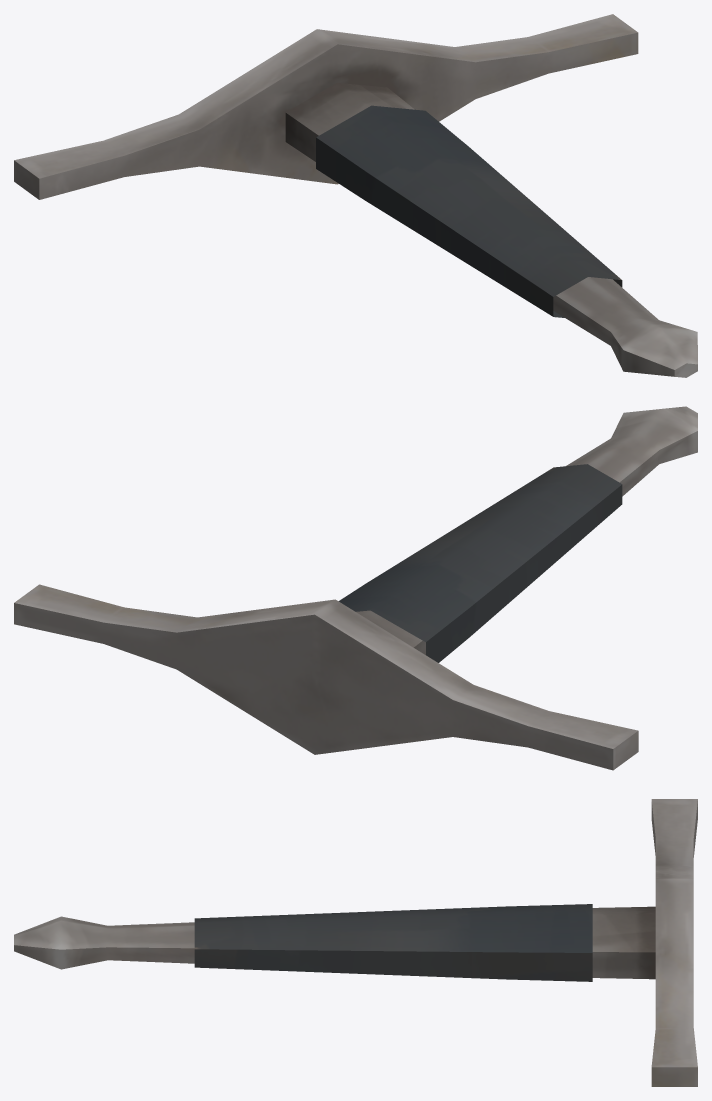
Rendered from hilt3.FBX.
The picture shows the model from 3 angles, top to bottom: view 1: azimuth 30°, elevation 25°; view 2: azimuth 150°, elevation 25°; view 3: azimuth 270°, elevation 25°; orthographic projection. The views are drawn at different scales.
Visible parts, largest first — view 1: hilt003; view 2: hilt003; view 3: hilt003.
Boxes of the visible parts, box(x1,y1,x2,y2) form: hilt003: box(14, 14, 697, 377); hilt003: box(14, 406, 697, 770); hilt003: box(14, 799, 697, 1086).
Size of the model in its own units: 0.5312 by 0.5725 by 0.1188.
